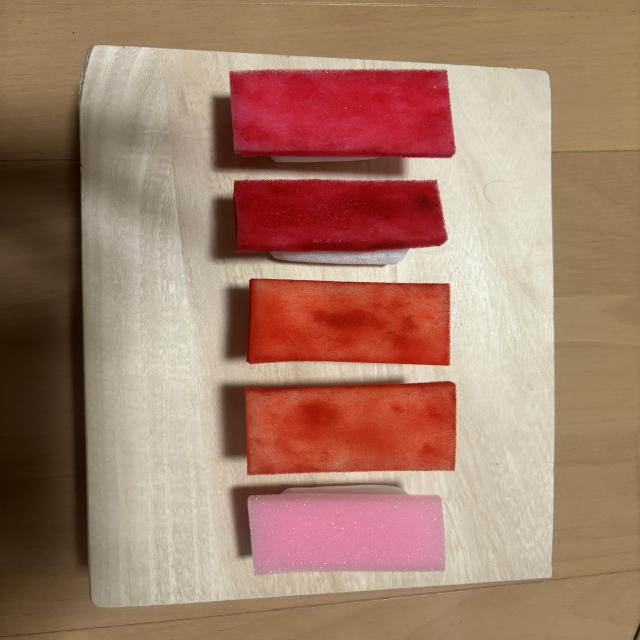maguro: (230, 69, 455, 161), (234, 179, 447, 264)
salmon: (246, 381, 456, 474), (247, 279, 450, 366)
tai: (248, 484, 446, 575)
